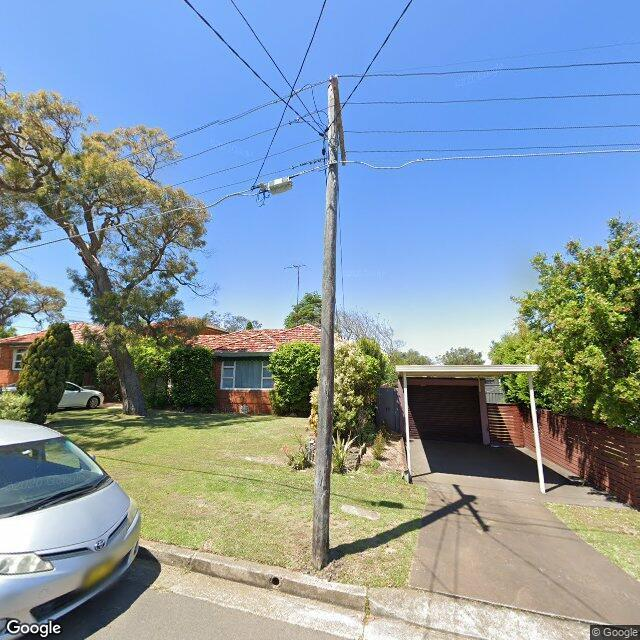crossarm: (330, 76, 348, 166)
timber-pole: (312, 77, 338, 571)
